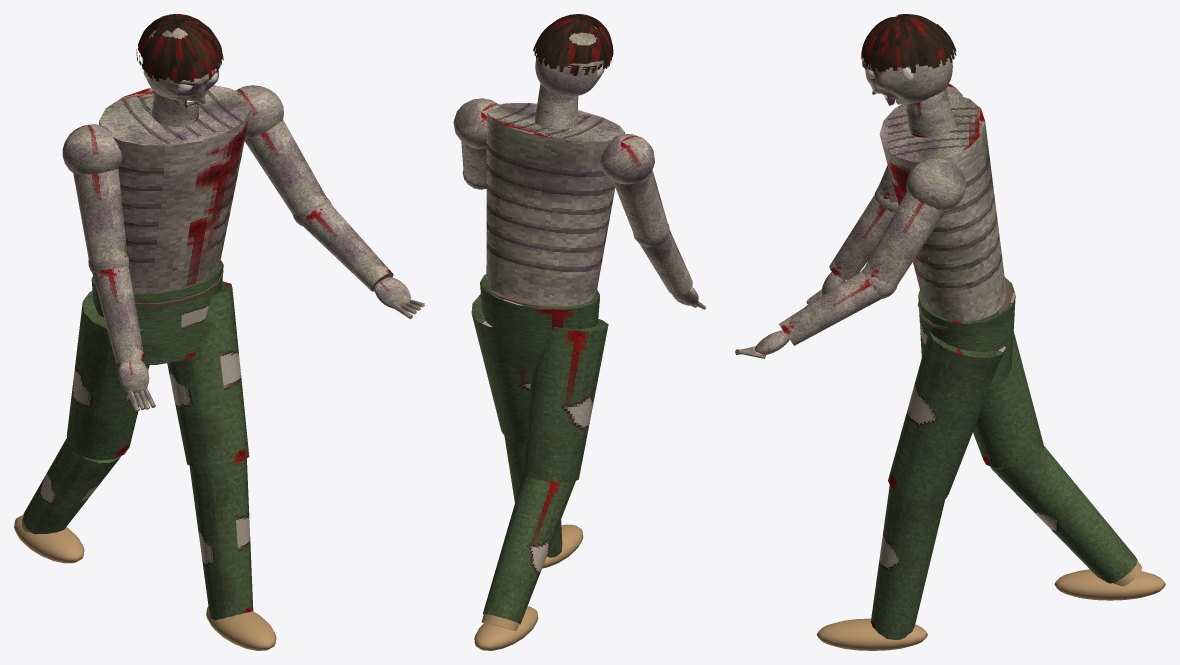
The model's file is Zombie_070.glb.
3 views of the same model, side by side, from view 1: azimuth 30°, elevation 25°; view 2: azimuth 150°, elevation 25°; view 3: azimuth 270°, elevation 25° (orthographic). The views are drawn at different scales.
Visible parts, largest first — view 1: Zombie_070, object 42, object 3, object 10, object 16, object 4, object 11; view 2: Zombie_070, object 42, object 16, object 3, object 41; view 3: Zombie_070, object 42, object 10, object 16, object 3.
Boxes of the visible parts, box(x1,y1,x2,y2) form: Zombie_070: box(14, 85, 327, 650); object 42: box(136, 14, 223, 82); object 3: box(92, 265, 144, 363); object 10: box(302, 203, 393, 291); object 16: box(142, 28, 218, 103); object 4: box(118, 359, 149, 393); object 11: box(374, 277, 410, 308); Zombie_070: box(453, 83, 667, 650); object 42: box(533, 14, 613, 73); object 16: box(535, 25, 604, 96); object 3: box(640, 231, 692, 294); object 41: box(534, 19, 607, 75); Zombie_070: box(816, 84, 1165, 650); object 42: box(861, 14, 956, 70); object 10: box(779, 271, 882, 345); object 16: box(862, 54, 952, 105); object 3: box(829, 195, 894, 280).
Bounding box in the file's own units: 0.8192 × 1.88 × 1.21.
16 materials, 6 textured.
